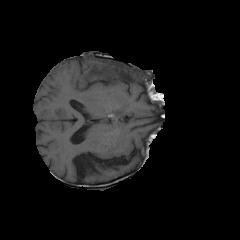glioma: (82, 56, 156, 99)
